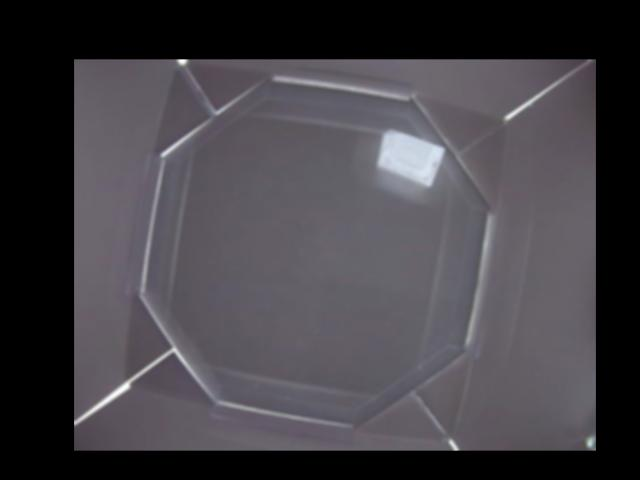China: (374, 128, 444, 183)
